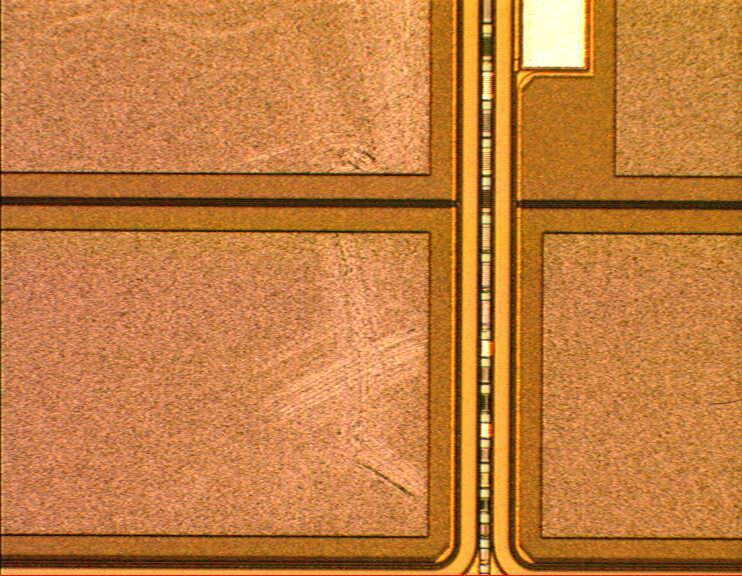SCRATCH: (43, 1, 435, 501)
